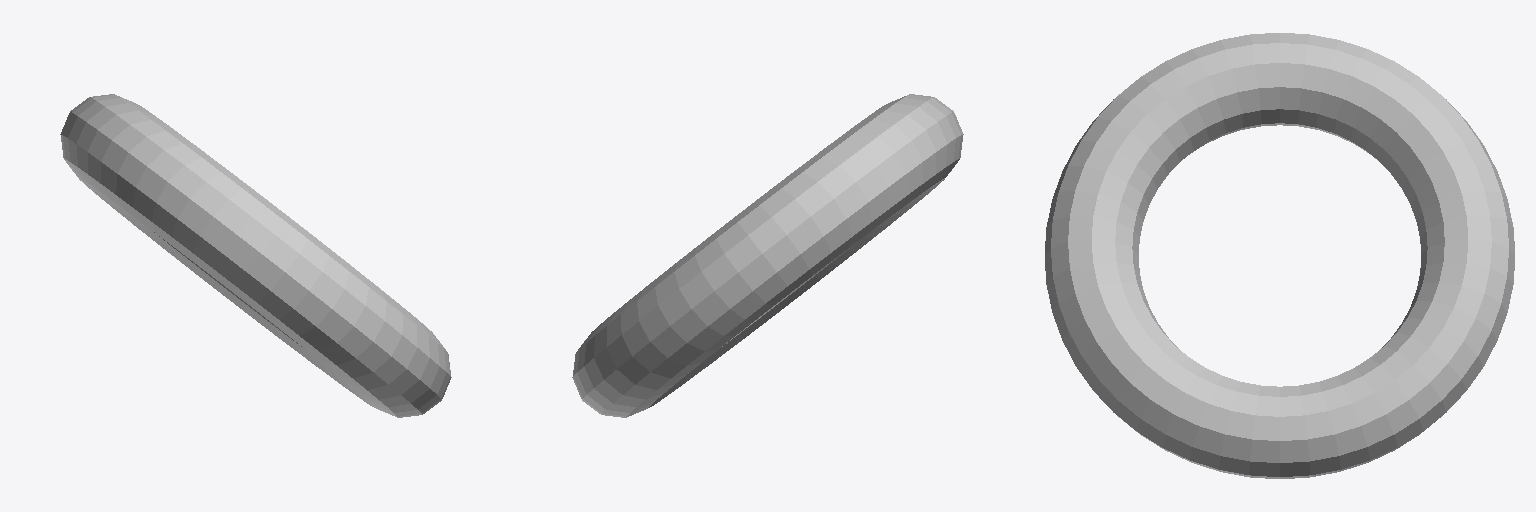
Rendered from left_Ear.obj.
3 views of the same model, side by side, from view 1: azimuth 30°, elevation 25°; view 2: azimuth 150°, elevation 25°; view 3: azimuth 270°, elevation 25° (orthographic).
Parts seen in each view (by area): view 1: トーラス.001; view 2: トーラス.001; view 3: トーラス.001.
Part boxes in pixels (bbox=[...]): トーラス.001: bbox=[60, 94, 451, 417]; トーラス.001: bbox=[572, 94, 963, 417]; トーラス.001: bbox=[1045, 33, 1514, 478].
Size of the model in its own units: 1.02 by 1.02 by 1.34.